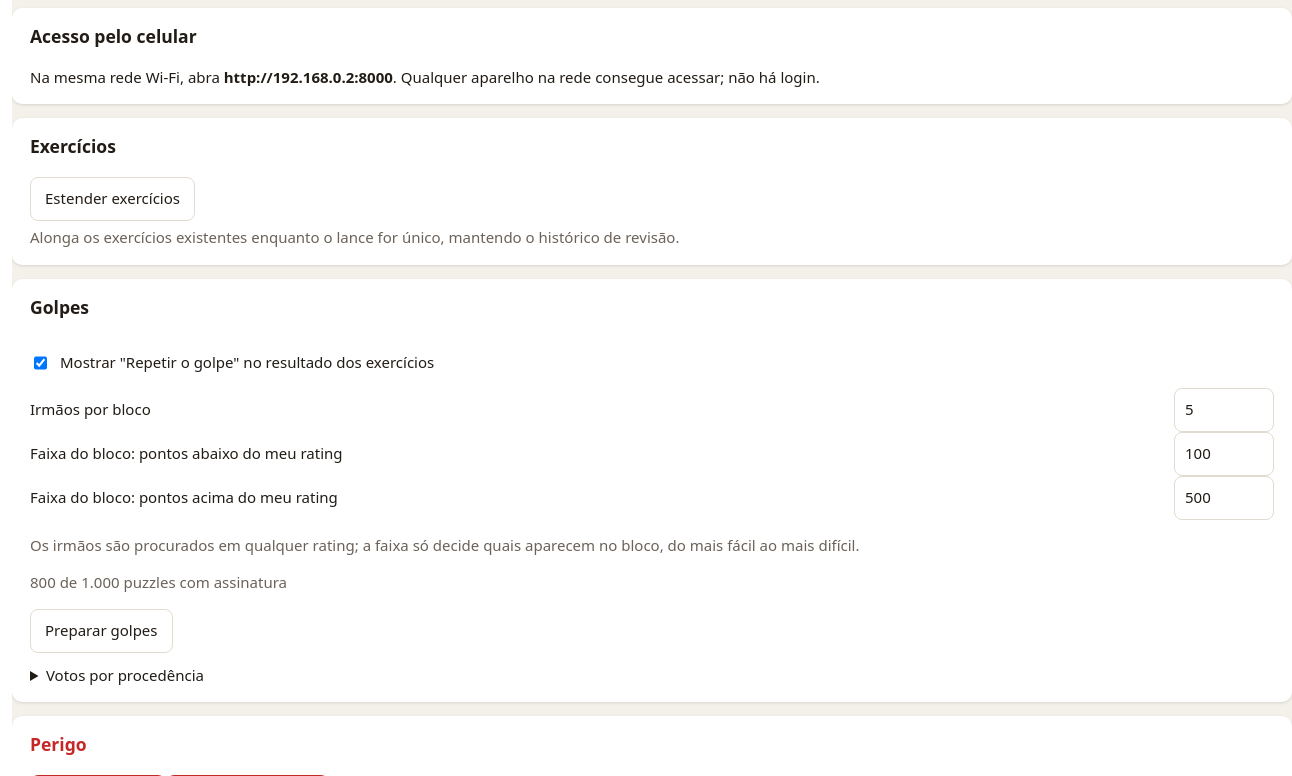
Scenario: a faixa do bloco fora do intervalo mostra a mensagem de validação
(page scrolled)
Replace the text in the number field labelled "Faixa do bloco: pontos abaixo do meu rating" with "1001" at (1224, 454), box x1=1174 y1=432 x2=1274 y2=476
(page scrolled)
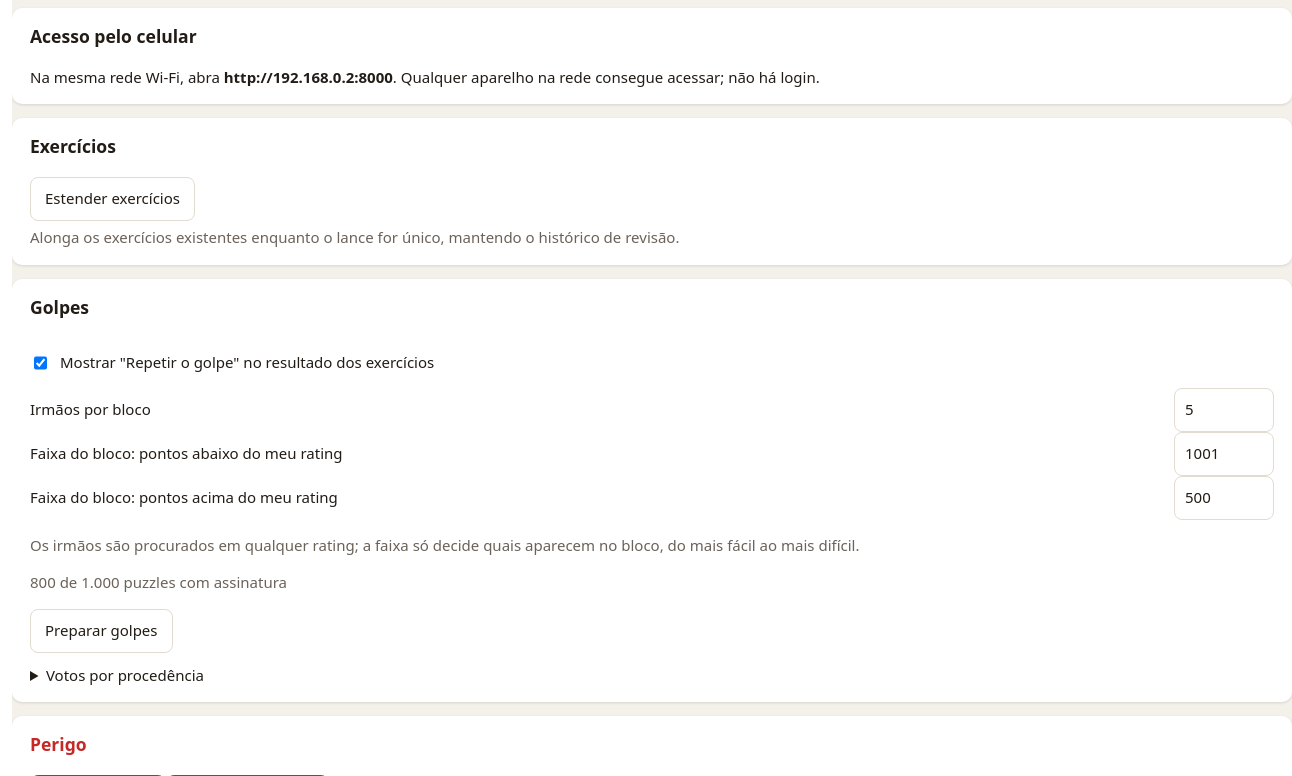
Replace the text in the number field labelled "Faixa do bloco: pontos acima do meu rating" with "2001" at (1224, 498), box x1=1174 y1=476 x2=1274 y2=520
(page scrolled)
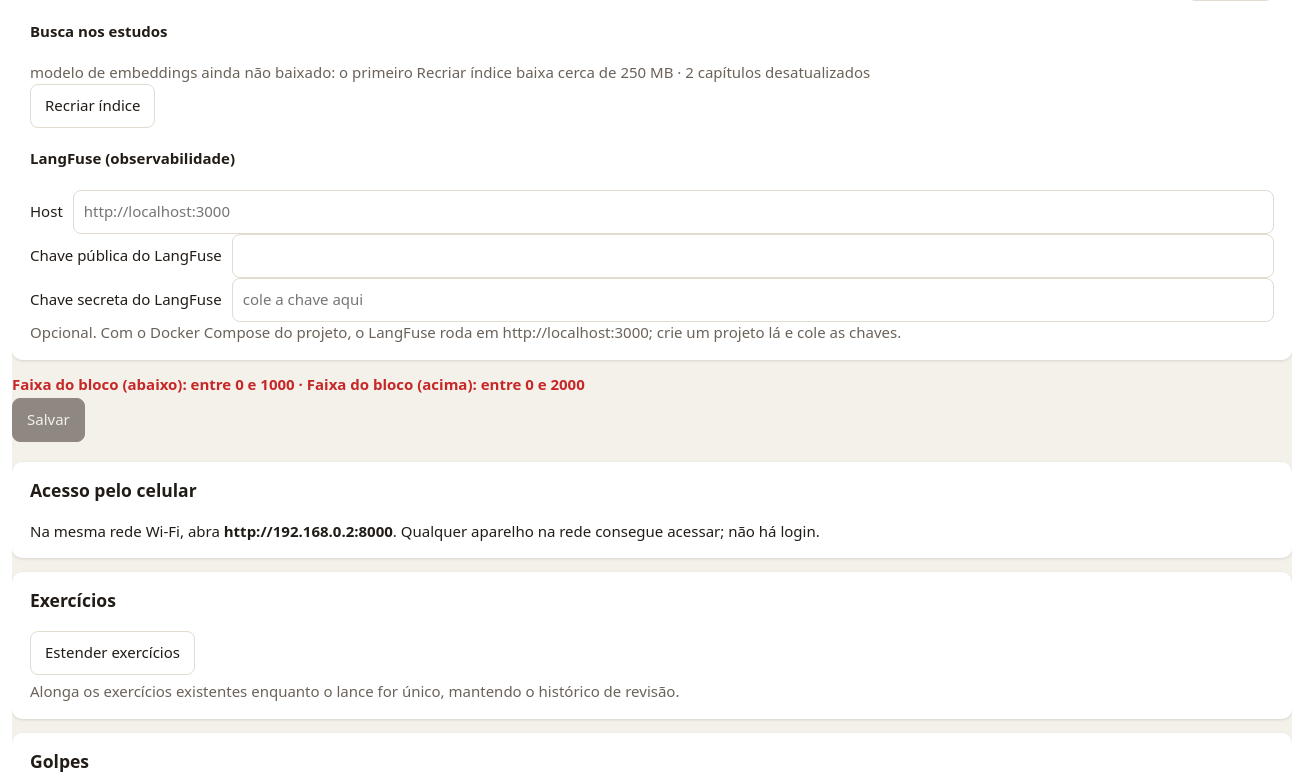
Expected: the text "Faixa do bloco (acima): entre 0 e 2000" is shown, x1=12 y1=374 x2=585 y2=394
